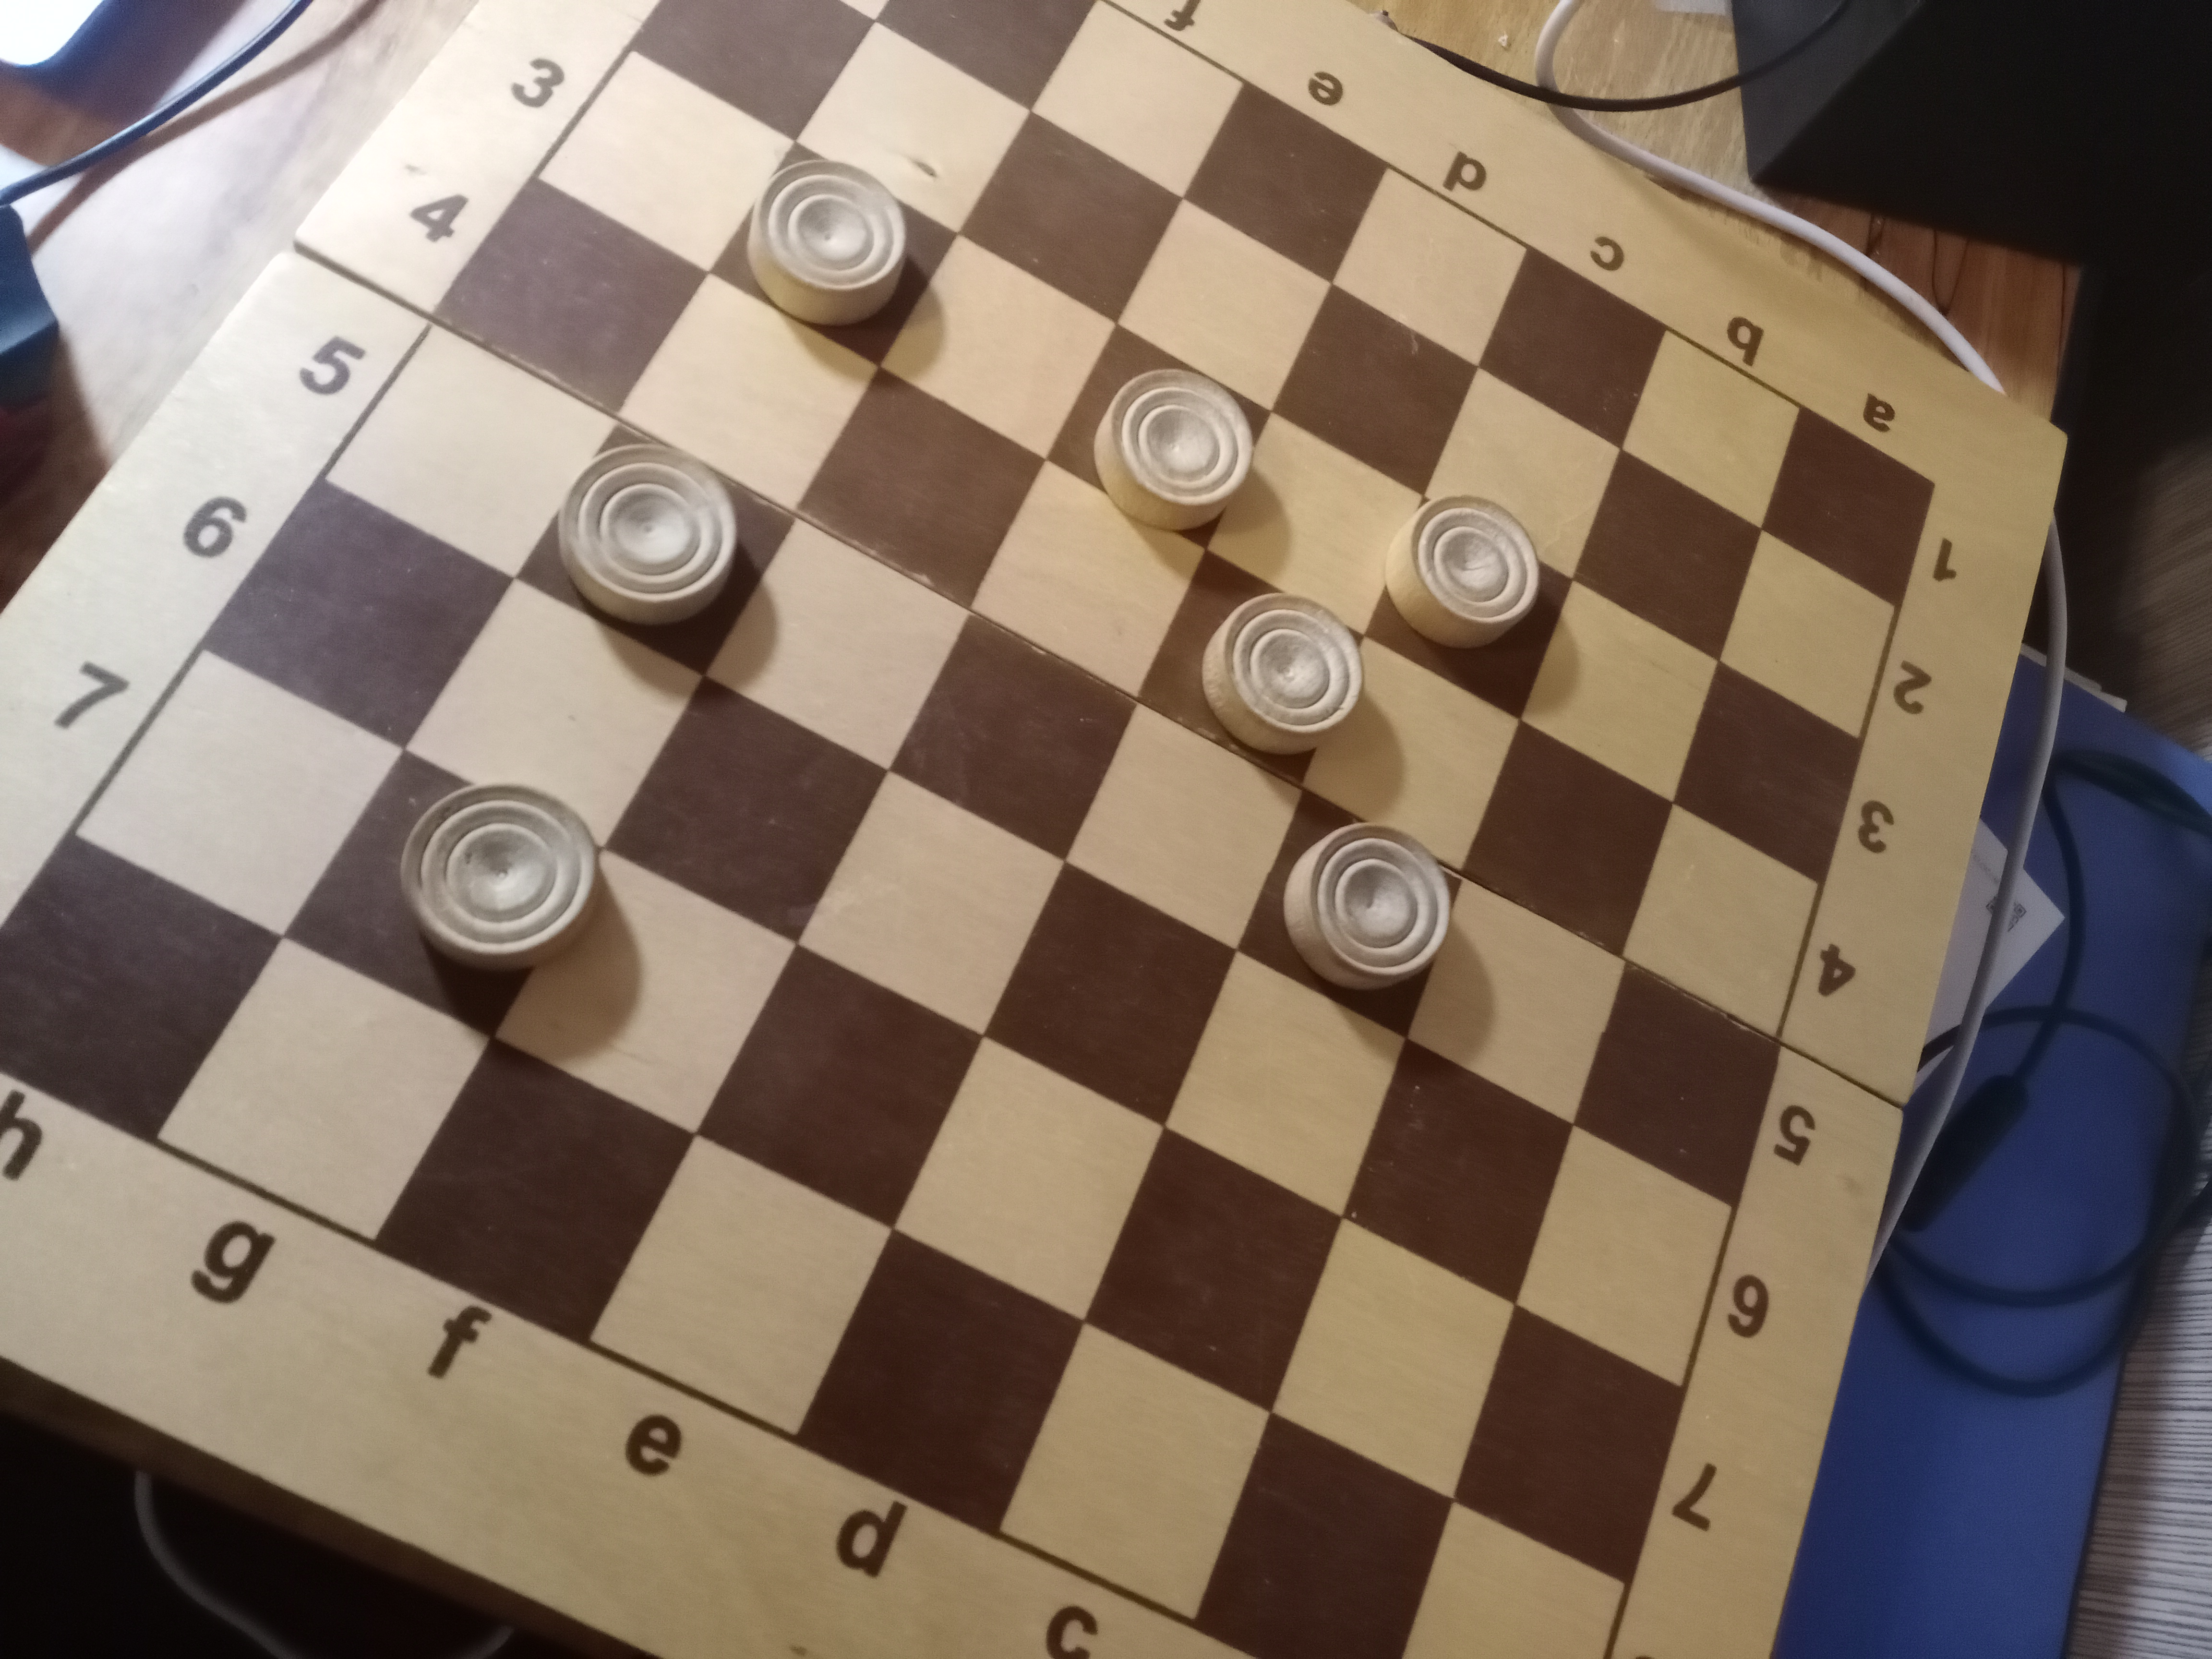White_Draught: (284, 751, 604, 1039), (516, 422, 798, 676), (1237, 786, 1463, 1037), (709, 143, 958, 366), (1137, 549, 1366, 788), (1047, 326, 1273, 549), (1367, 497, 1573, 720)
